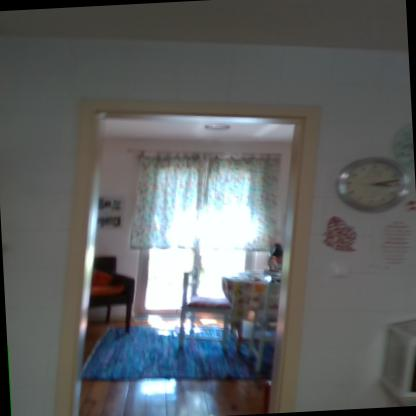semi: (50, 81, 341, 415)
